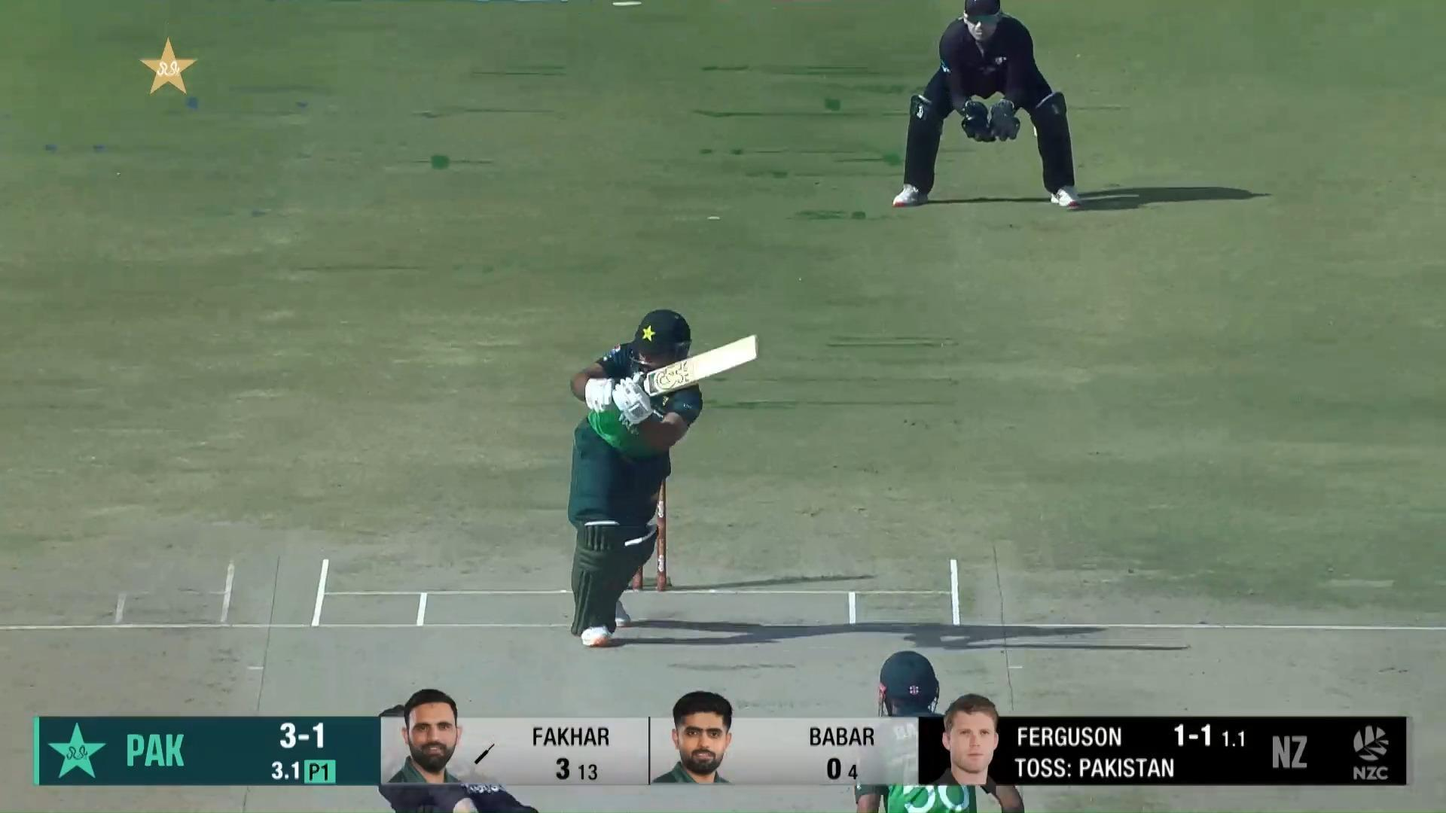BM 1: (565, 308, 762, 652)
BO: (379, 704, 539, 813)
